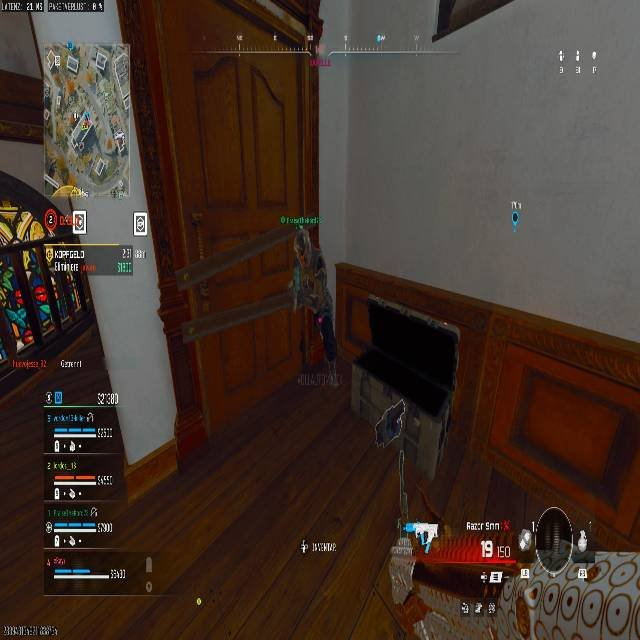player: (491, 508, 639, 638), (291, 236, 336, 372)
